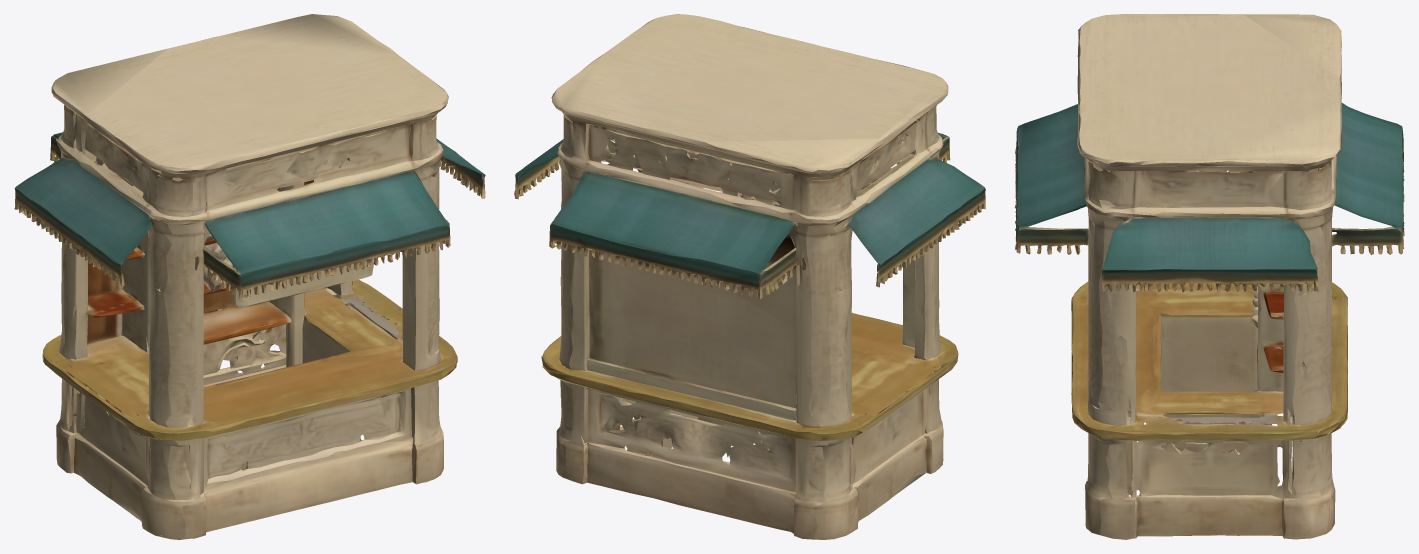
File: unified--prizes.glb
3 views of the same model, side by side, from view 1: azimuth 30°, elevation 25°; view 2: azimuth 150°, elevation 25°; view 3: azimuth 270°, elevation 25° (orthographic).
Visible parts, largest first — view 1: prizes-1; view 2: prizes-1; view 3: prizes-1.
Part boxes in pixels (x1,y1,x2,y2): prizes-1: [14, 14, 485, 539]; prizes-1: [514, 14, 985, 539]; prizes-1: [1014, 14, 1404, 539].
Size of the model in its own units: 2.67 by 2.6 by 2.41.
1 material, 1 textured.
